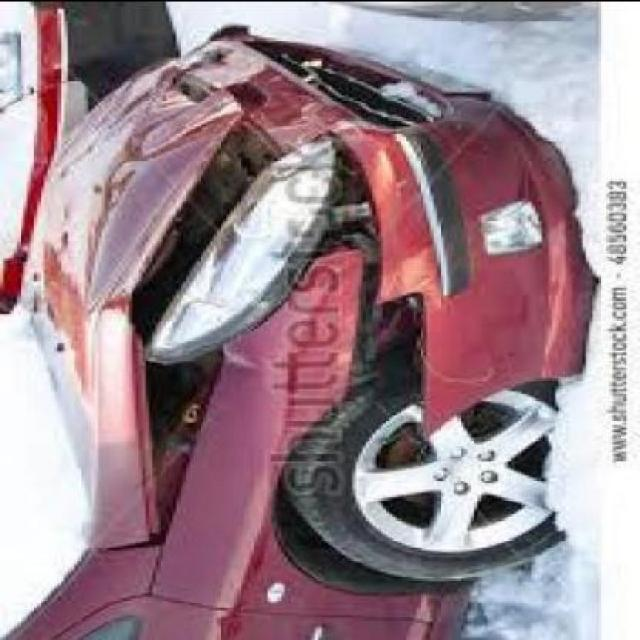damage: (66, 54, 447, 547)
